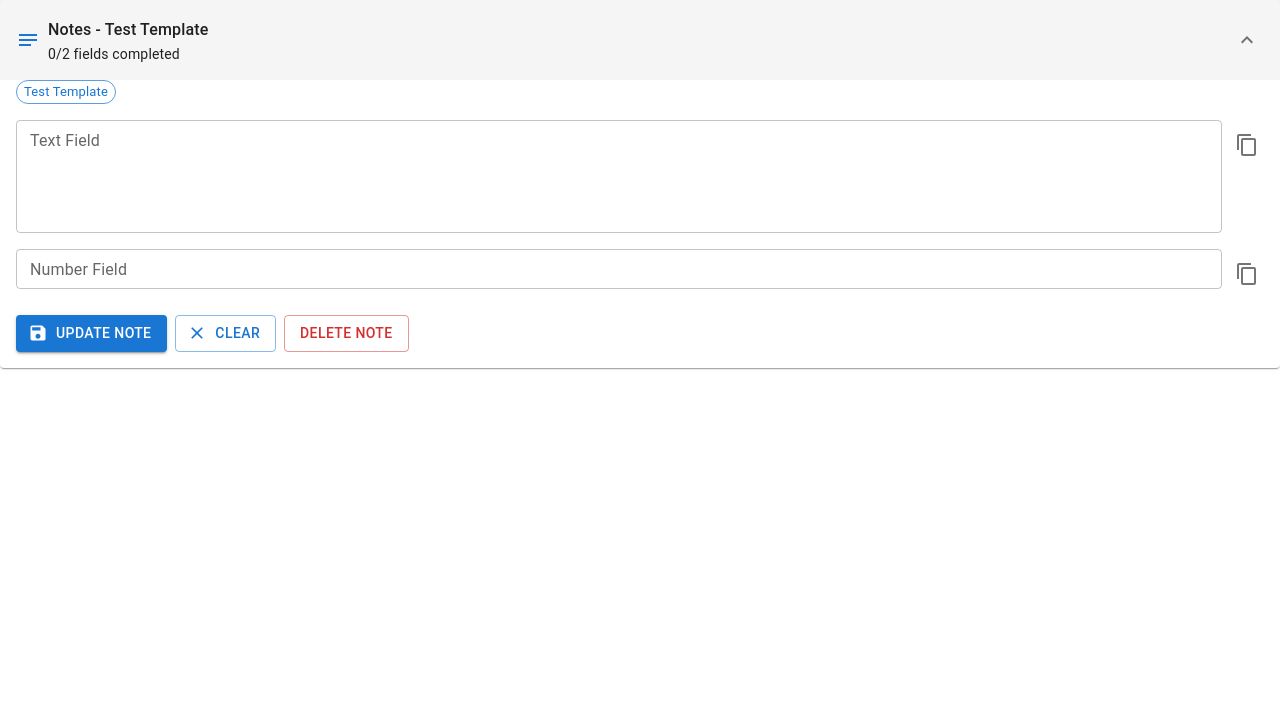
Test: NoteEditor Copy Functionality › shows message when trying to copy empty field
Click the button titled "Copy Text Field content": (1247, 145) [1230,128,1264,162]
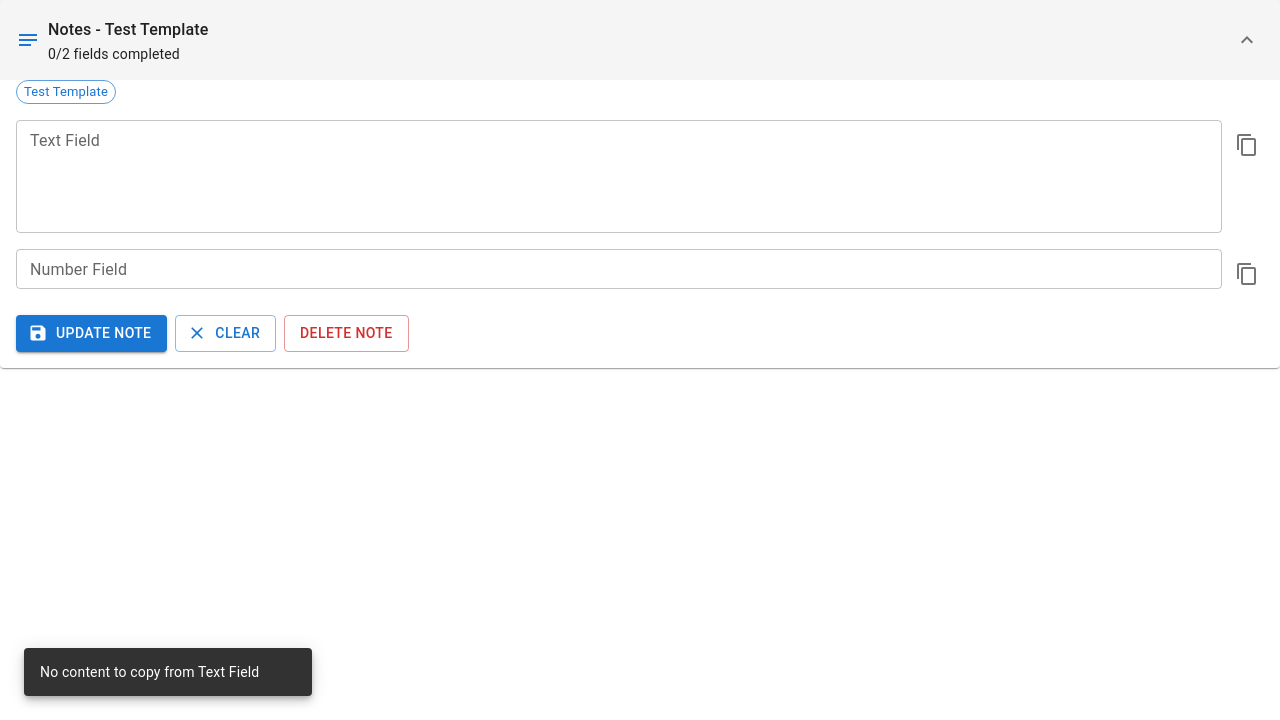
Result: the text "No content to copy from Text Field" is shown at [40,664,259,680]
